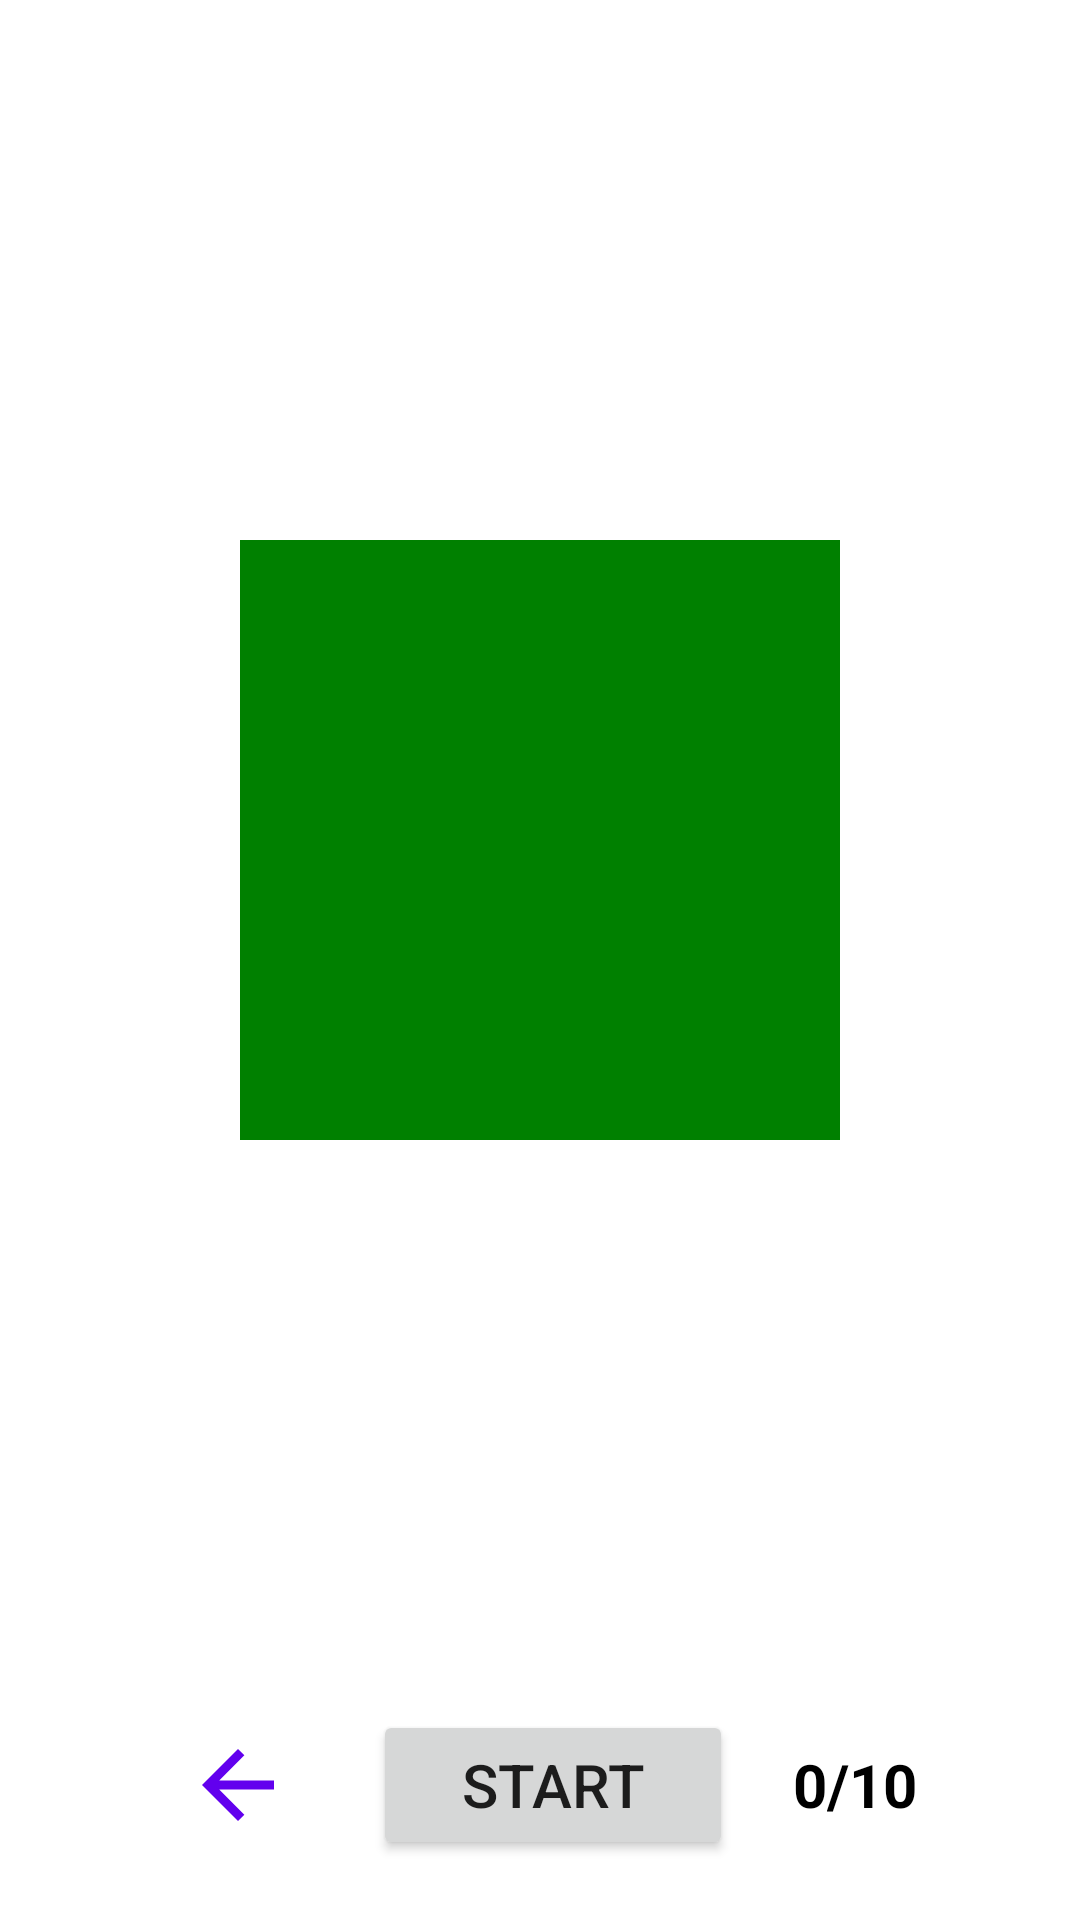

Where to tap for icons on this 1080×1920 app screen, as [x,y]:
BACK: [238,1785]
